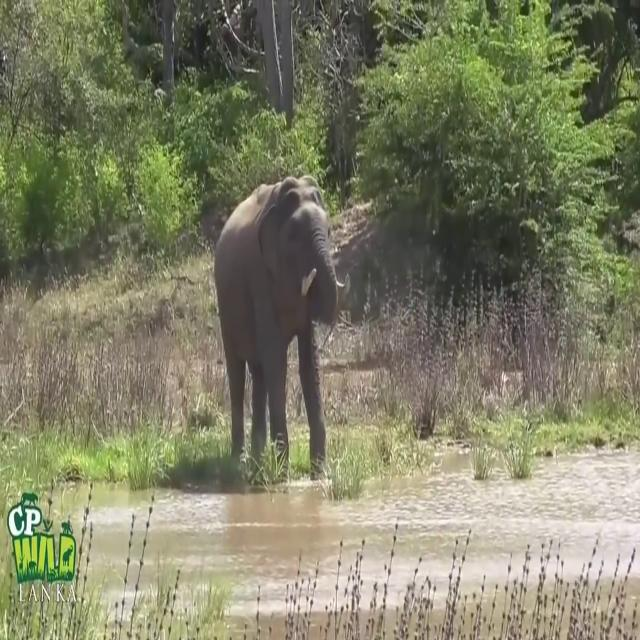Elephant: (214, 173, 350, 480)
